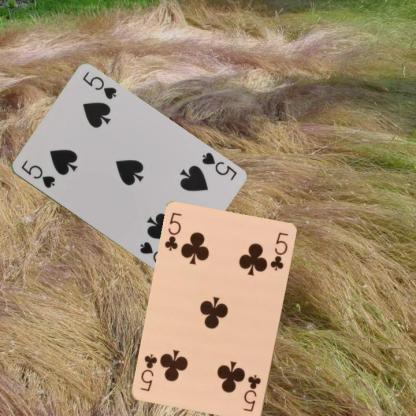5c: (162, 210, 184, 252), (240, 372, 262, 413)
5s: (198, 150, 238, 183), (18, 158, 56, 190)
